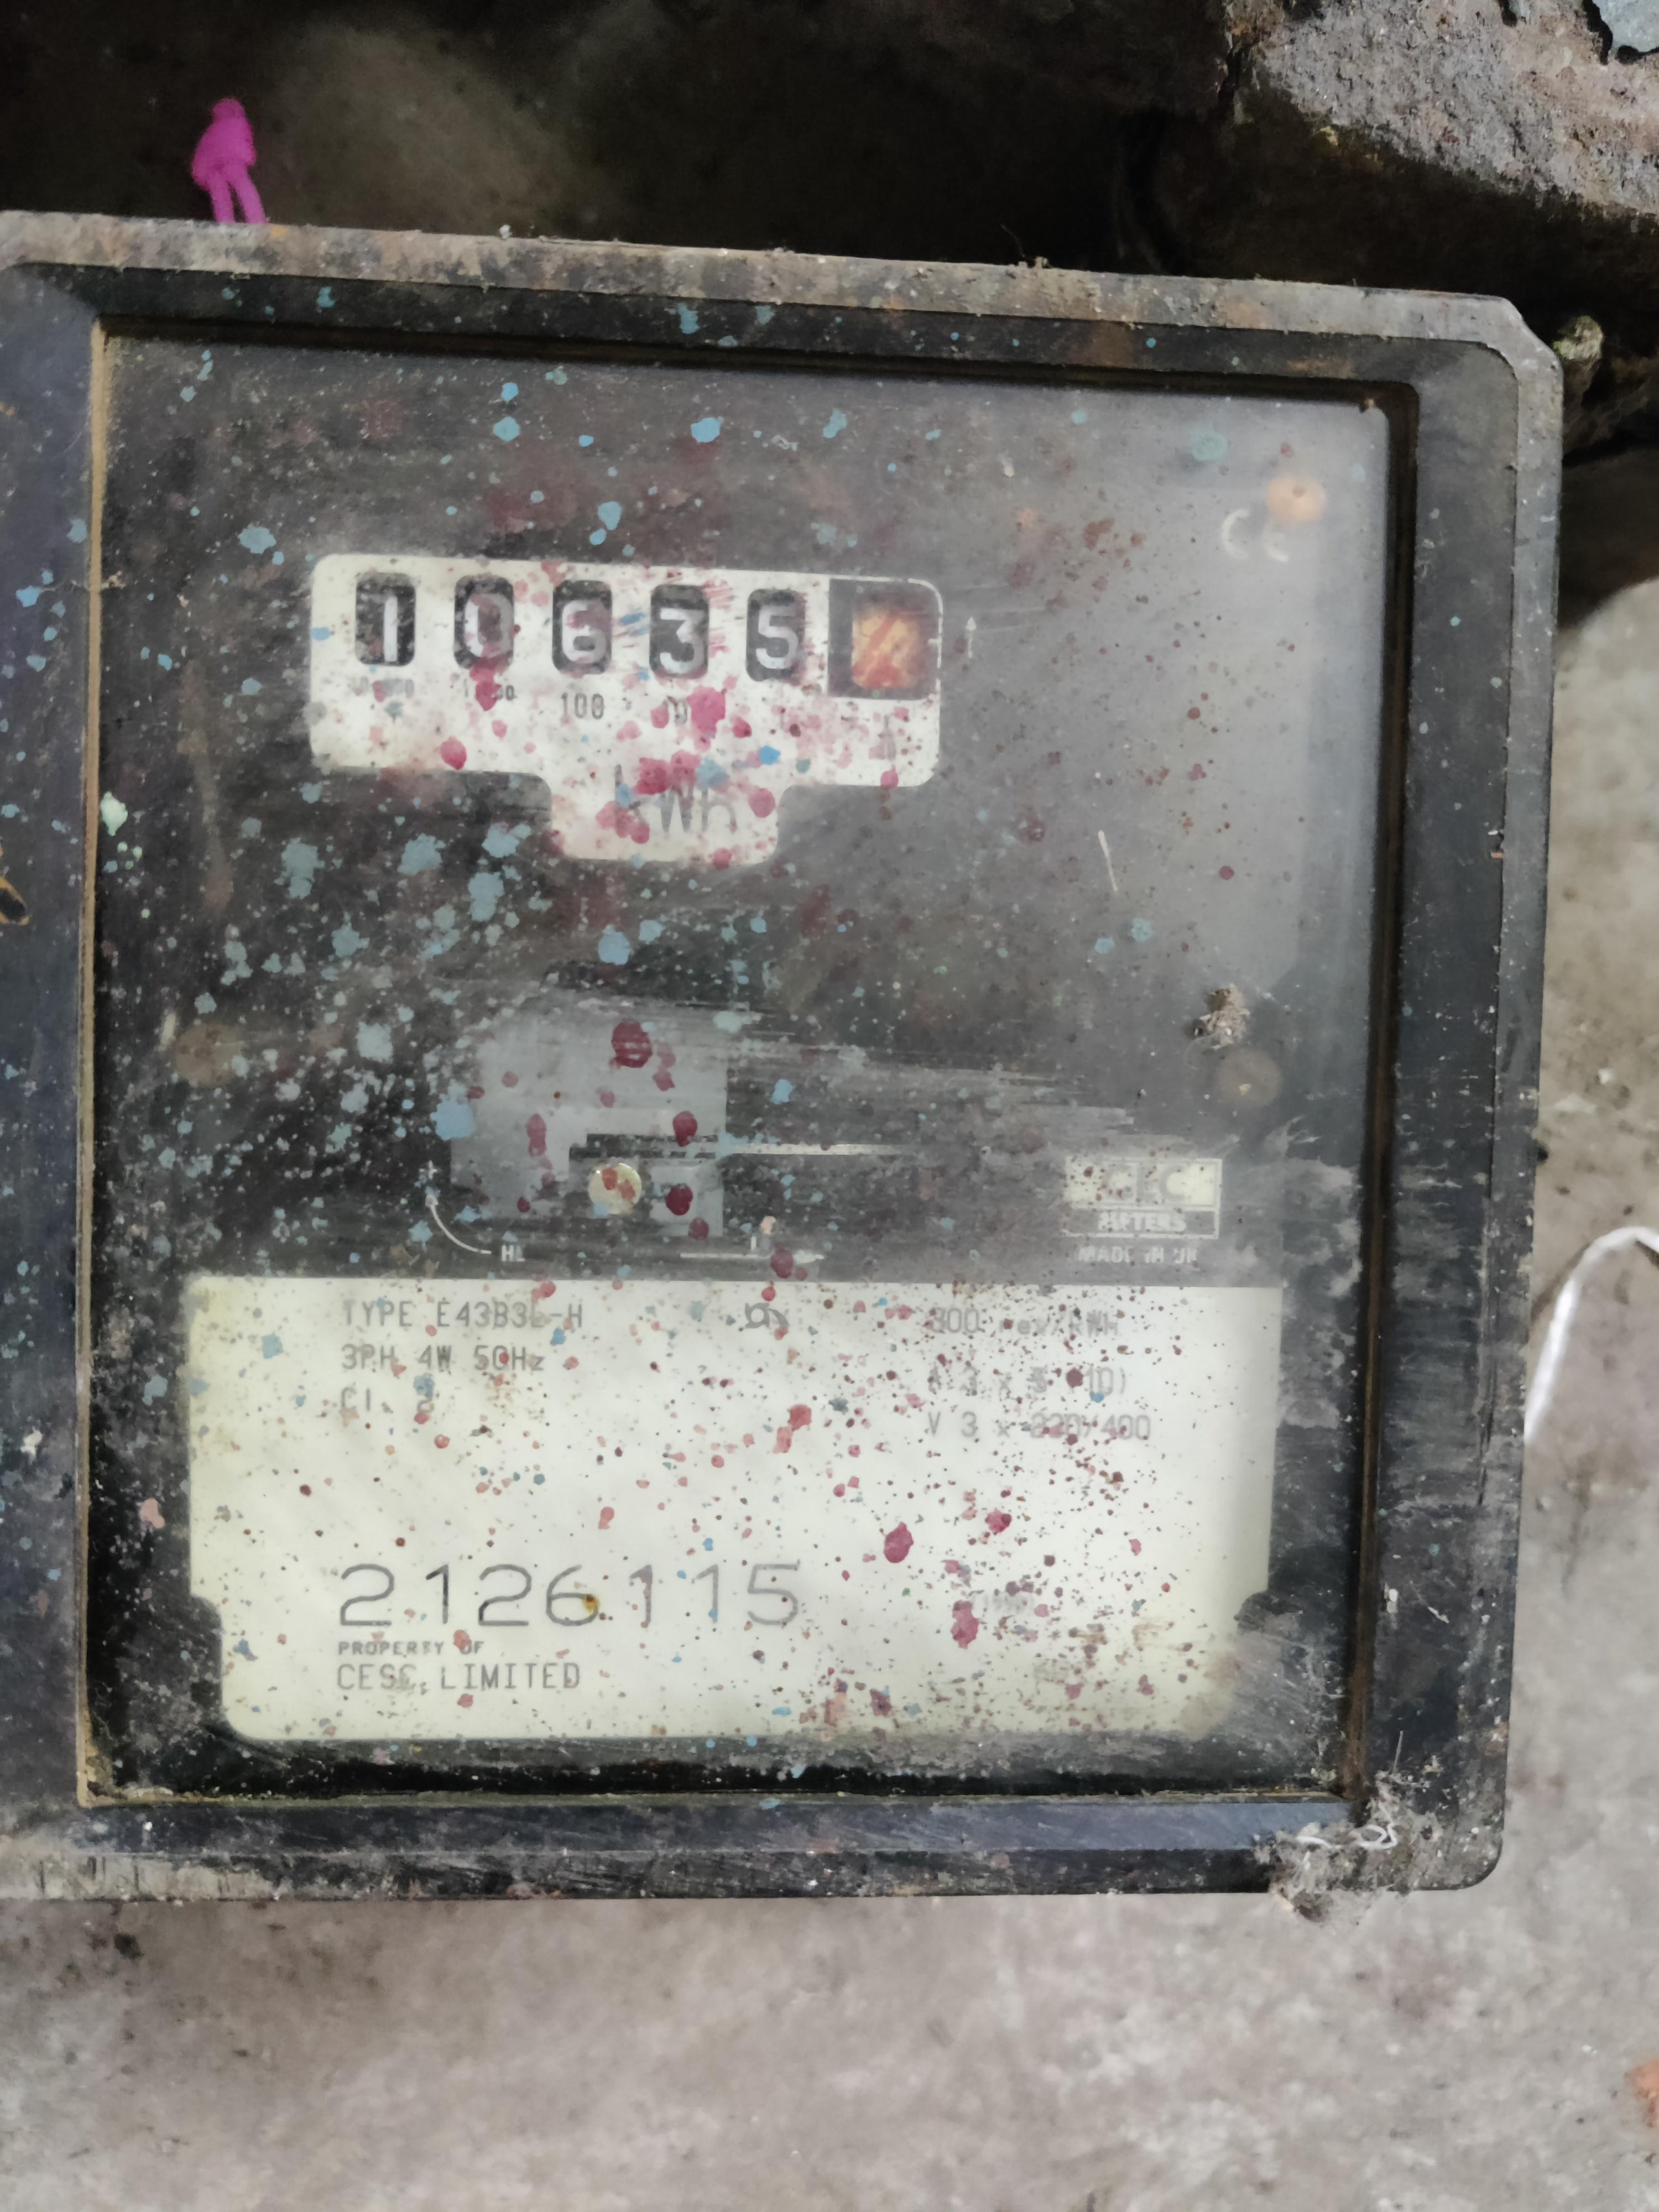meter_readings: (333, 552, 938, 681)
serial_number: (322, 1543, 838, 1634)
